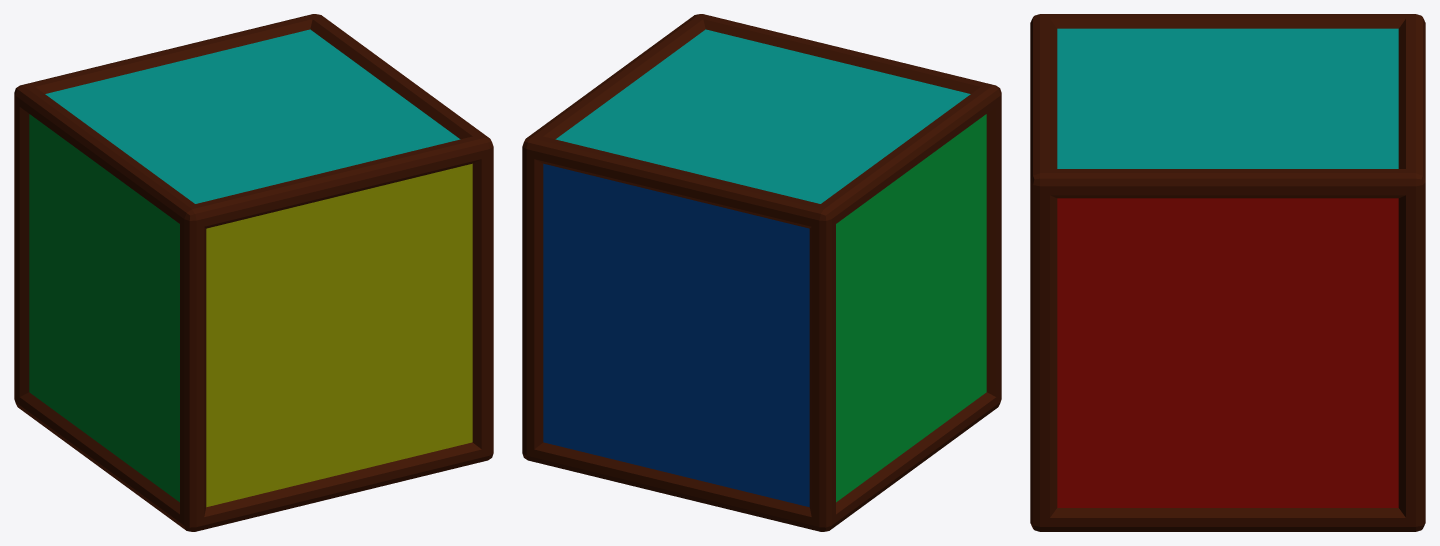
File: SM_CubeLove.fbx
The picture shows the model from 3 angles, left to right: view 1: azimuth 30°, elevation 25°; view 2: azimuth 150°, elevation 25°; view 3: azimuth 270°, elevation 25°; orthographic projection. The views are drawn at different scales.
Visible parts, largest first — view 1: M_Cube; view 2: M_Cube; view 3: M_Cube.
Part boxes in pixels (box(x1,y1,x2,y2)): M_Cube: box(14, 14, 493, 531); M_Cube: box(522, 14, 1001, 531); M_Cube: box(1030, 14, 1425, 531).
Bounding box in the file's own units: 30.04 × 30.04 × 30.04.
